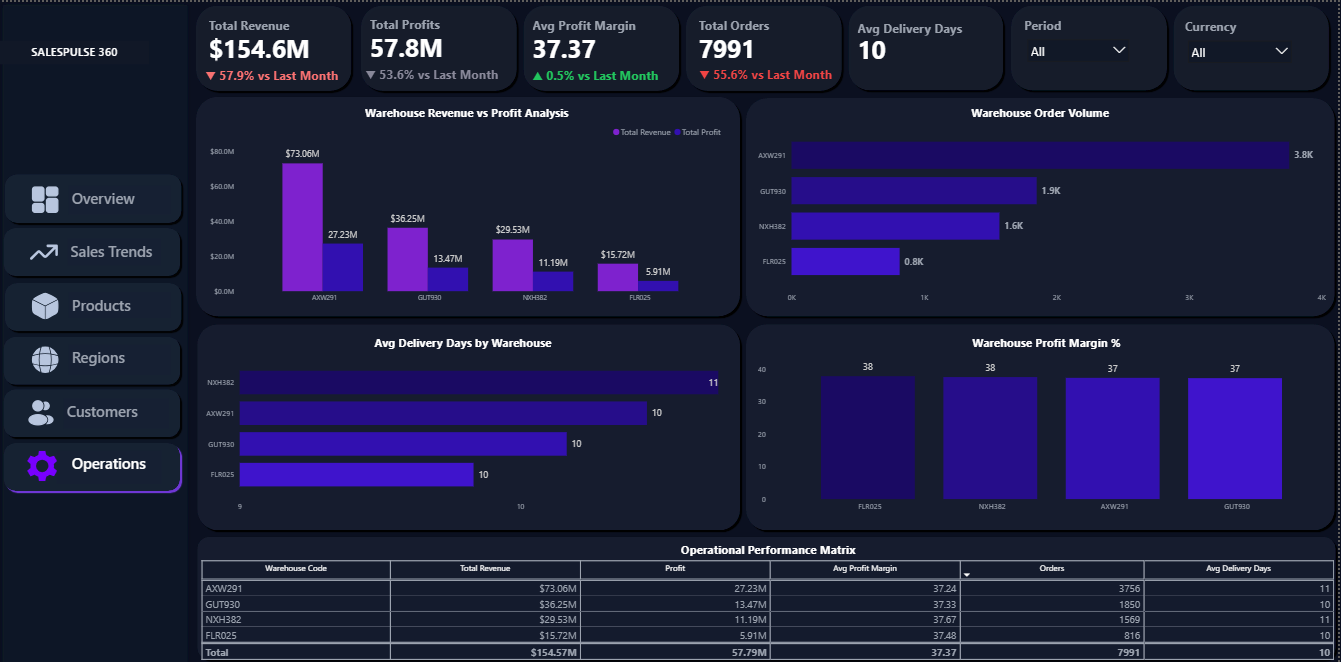

This screenshot's page, from the dashboard's own definition file:
{"tool":"powerbi","page":{"name":"Operations","canvas":[2185,1080],"ordinal":5},"visuals":[{"type":"shape","box":[315.4,519.6,897.6,347.7],"z":0},{"type":"shape","box":[1380,0,264,150],"z":1000},{"type":"shape","box":[313.4,149.6,899.6,370],"z":2000},{"type":"shape","box":[583.1,0,265.7,150.8],"z":3000},{"type":"shape","box":[315.2,0,265,150.8],"z":4000},{"type":"shape","box":[848.7,0,265.7,150.8],"z":5000},{"type":"advanceCardE03760C5AB684758B56AA29F9E6C257B","title":"Avg Profit Margin","fields":{"mainMeasure":["CALENDAR_TABLE.Avg Profit Margin"]},"box":[869,24.8,186,76],"z":6000},{"type":"shape","box":[1114.4,0,265.7,150.8],"z":7000},{"type":"shape","box":[0,0,311.3,1101.8],"z":8000},{"type":"shape","box":[2,274.9,300,91],"z":9000},{"type":"textbox","box":[112.8,300.9,166.6,47.3],"z":10000},{"type":"shape","box":[0.1,363.5,300,90],"z":11000},{"type":"shape","box":[1,453.2,300,90.1],"z":12000},{"type":"shape","box":[0,540.6,300,90],"z":13000},{"type":"shape","box":[-1,627.3,300,90.1],"z":14000},{"type":"shape","box":[0,714.5,300,90],"z":15000},{"type":"textbox","box":[111.4,473.4,166.6,42.8],"z":16000},{"type":"textbox","box":[111.4,559.3,166.6,49.5],"z":17000},{"type":"textbox","box":[104.8,647.6,171.1,49.5],"z":18000},{"type":"textbox","box":[91.8,731.8,171.1,54],"z":19000},{"type":"image","box":[49.3,298.2,49.5,49.5],"z":20000},{"type":"image","box":[47.2,384.5,49.5,49.5],"z":21000},{"type":"image","box":[48.3,471.6,49.5,49.5],"z":22000},{"type":"image","box":[48.4,559.3,49.5,49.5],"z":23000},{"type":"image","box":[41.8,647.6,54,49.5],"z":24000},{"type":"image","box":[40.1,731.8,56.3,49.5],"z":25000},{"type":"textbox","box":[110.3,386.3,153.1,45],"z":26000},{"type":"textbox","box":[246.2,132.5,66.2,33.8],"z":27000},{"type":"advanceCardE03760C5AB684758B56AA29F9E6C257B","title":"Total Orders","fields":{"mainMeasure":["CALENDAR_TABLE.Total Orders"]},"box":[1140,24,186,76],"z":28000},{"type":"advanceCardE03760C5AB684758B56AA29F9E6C257B","title":"Total Profits","fields":{"mainMeasure":["CALENDAR_TABLE.Total Profit"]},"box":[603.3,22.5,186.9,76.5],"z":29000},{"type":"advanceCardE03760C5AB684758B56AA29F9E6C257B","title":"Avg Delivery Days","fields":{"mainMeasure":["CALENDAR_TABLE.Avg Delivery Days"]},"box":[1400,28,226,72],"z":30000},{"type":"shape","box":[1213,151.6,972.4,367.9],"z":31000},{"type":"shape","box":[1213,519.6,972.4,347.7],"z":32000},{"type":"advanceCardE03760C5AB684758B56AA29F9E6C257B","title":"Total Revenue","fields":{"mainMeasure":["CALENDAR_TABLE.Total Revenue"]},"box":[339.9,24.8,186.9,76.5],"z":33000},{"type":"card","fields":{"Values":["CALENDAR_TABLE.Revenue Trend Label"]},"box":[310.7,101.3,267.9,40.5],"z":34000},{"type":"card","fields":{"Values":["CALENDAR_TABLE.Profit Trend Label"]},"box":[571.8,99.1,267.9,40.5],"z":35000},{"type":"card","fields":{"Values":["CALENDAR_TABLE.Orders Trend Label"]},"box":[1116,100,268,40],"z":36000},{"type":"shape","box":[1644,0,266,150],"z":37000},{"type":"slicer","title":"Period","fields":{"Values":["CALENDAR_TABLE.YEAR","CALENDAR_TABLE.MONTH_NAME"]},"box":[1668,24,186,76],"z":38000},{"type":"pageNavigator","box":[2,277.9,297.7,85.4],"z":39000},{"type":"shape","box":[1910,0,265,150],"z":40000},{"type":"slicer","title":"Currency","fields":{"Values":["SALES_ANALYTICS_MASTER.CURRENCY_CODE"]},"box":[1932.5,27.5,186,75],"z":41000},{"type":"pageNavigator","box":[0,365.9,299.2,86.9],"z":42000},{"type":"pageNavigator","box":[0,454.9,299.2,86],"z":43000},{"type":"pageNavigator","box":[0,539.8,299.2,86.9],"z":44000},{"type":"pageNavigator","box":[0,713.3,298.3,86.7],"z":45000},{"type":"shape","box":[315.4,867.3,1870,212.3],"z":46000},{"type":"clusteredColumnChart","title":"Warehouse Revenue vs Profit Analysis","fields":{"Category":["SALES_ANALYTICS_MASTER.WAREHOUSE_CODE"],"Y":["CALENDAR_TABLE.Total Revenue","CALENDAR_TABLE.Total Profit"]},"box":[321.4,167.8,879.4,347.7],"z":47000},{"type":"clusteredBarChart","title":"Warehouse Order Volume","fields":{"Category":["SALES_ANALYTICS_MASTER.WAREHOUSE_CODE"],"Y":["CALENDAR_TABLE.Total Orders"]},"box":[1213,167.8,972.4,347.7],"z":48000},{"type":"clusteredColumnChart","title":"Warehouse Profit Margin %","fields":{"Category":["SALES_ANALYTICS_MASTER.WAREHOUSE_CODE"],"Y":["CALENDAR_TABLE.Avg Profit Margin"]},"box":[1233.2,539.8,952.2,317.4],"z":49000},{"type":"clusteredBarChart","title":"Avg Delivery Days by Warehouse","fields":{"Category":["SALES_ANALYTICS_MASTER.WAREHOUSE_CODE"],"Y":["CALENDAR_TABLE.Avg Delivery Days"]},"box":[327.5,539.8,873.4,317.4],"z":50000},{"type":"tableEx","title":"Operational Performance Matrix","fields":{"Values":["SALES_ANALYTICS_MASTER.WAREHOUSE_CODE","CALENDAR_TABLE.Total Revenue","CALENDAR_TABLE.Total Profit","CALENDAR_TABLE.Avg Profit Margin","CALENDAR_TABLE.Total Orders","CALENDAR_TABLE.Avg Delivery Days"]},"box":[321.4,881.4,1864,198.1],"z":51000},{"type":"pageNavigator","box":[0,626.7,300,86.7],"z":52000},{"type":"card","fields":{"Values":["CALENDAR_TABLE.Profit Margin Trend Label"]},"box":[848,98.4,267,39.8],"z":53000},{"type":"image","box":[62.2,0,201.1,170],"z":54000},{"type":"textbox","box":[0,153.2,260.9,88.6],"z":55000},{"type":"textbox","box":[222.6,153.2,93.4,69.4],"z":56000}]}

Visuals, with their boxes on the page's 2185x1080 design canvas (x1, y1, x2, y2). These are canvas units, not pixel positions in the 1341x662 screenshot, which may show the page scaled, cropped or inside an application window:
shape: left=315, top=520, right=1213, bottom=867
shape: left=1380, top=0, right=1644, bottom=150
shape: left=313, top=150, right=1213, bottom=520
shape: left=583, top=0, right=849, bottom=151
shape: left=315, top=0, right=580, bottom=151
shape: left=849, top=0, right=1114, bottom=151
"Avg Profit Margin" advanceCardE03760C5AB684758B56AA29F9E6C257B: left=869, top=25, right=1055, bottom=101
shape: left=1114, top=0, right=1380, bottom=151
shape: left=0, top=0, right=311, bottom=1102
shape: left=2, top=275, right=302, bottom=366
textbox: left=113, top=301, right=279, bottom=348
shape: left=0, top=364, right=300, bottom=454
shape: left=1, top=453, right=301, bottom=543
shape: left=0, top=541, right=300, bottom=631
shape: left=-1, top=627, right=299, bottom=717
shape: left=0, top=714, right=300, bottom=804
textbox: left=111, top=473, right=278, bottom=516
textbox: left=111, top=559, right=278, bottom=609
textbox: left=105, top=648, right=276, bottom=697
textbox: left=92, top=732, right=263, bottom=786
image: left=49, top=298, right=99, bottom=348
image: left=47, top=384, right=97, bottom=434
image: left=48, top=472, right=98, bottom=521
image: left=48, top=559, right=98, bottom=609
image: left=42, top=648, right=96, bottom=697
image: left=40, top=732, right=96, bottom=781
textbox: left=110, top=386, right=263, bottom=431
textbox: left=246, top=132, right=312, bottom=166
"Total Orders" advanceCardE03760C5AB684758B56AA29F9E6C257B: left=1140, top=24, right=1326, bottom=100
"Total Profits" advanceCardE03760C5AB684758B56AA29F9E6C257B: left=603, top=22, right=790, bottom=99
"Avg Delivery Days" advanceCardE03760C5AB684758B56AA29F9E6C257B: left=1400, top=28, right=1626, bottom=100
shape: left=1213, top=152, right=2185, bottom=520
shape: left=1213, top=520, right=2185, bottom=867
"Total Revenue" advanceCardE03760C5AB684758B56AA29F9E6C257B: left=340, top=25, right=527, bottom=101
card - CALENDAR_TABLE.Revenue Trend Label: left=311, top=101, right=579, bottom=142
card - CALENDAR_TABLE.Profit Trend Label: left=572, top=99, right=840, bottom=140
card - CALENDAR_TABLE.Orders Trend Label: left=1116, top=100, right=1384, bottom=140
shape: left=1644, top=0, right=1910, bottom=150
"Period" slicer: left=1668, top=24, right=1854, bottom=100
pageNavigator: left=2, top=278, right=300, bottom=363
shape: left=1910, top=0, right=2175, bottom=150
"Currency" slicer: left=1932, top=28, right=2118, bottom=102
pageNavigator: left=0, top=366, right=299, bottom=453
pageNavigator: left=0, top=455, right=299, bottom=541
pageNavigator: left=0, top=540, right=299, bottom=627
pageNavigator: left=0, top=713, right=298, bottom=800
shape: left=315, top=867, right=2185, bottom=1080
"Warehouse Revenue vs Profit Analysis" clusteredColumnChart: left=321, top=168, right=1201, bottom=516
"Warehouse Order Volume" clusteredBarChart: left=1213, top=168, right=2185, bottom=516
"Warehouse Profit Margin %" clusteredColumnChart: left=1233, top=540, right=2185, bottom=857
"Avg Delivery Days by Warehouse" clusteredBarChart: left=328, top=540, right=1201, bottom=857
"Operational Performance Matrix" tableEx: left=321, top=881, right=2185, bottom=1080
pageNavigator: left=0, top=627, right=300, bottom=713
card - CALENDAR_TABLE.Profit Margin Trend Label: left=848, top=98, right=1115, bottom=138
image: left=62, top=0, right=263, bottom=170
textbox: left=0, top=153, right=261, bottom=242
textbox: left=223, top=153, right=316, bottom=223
